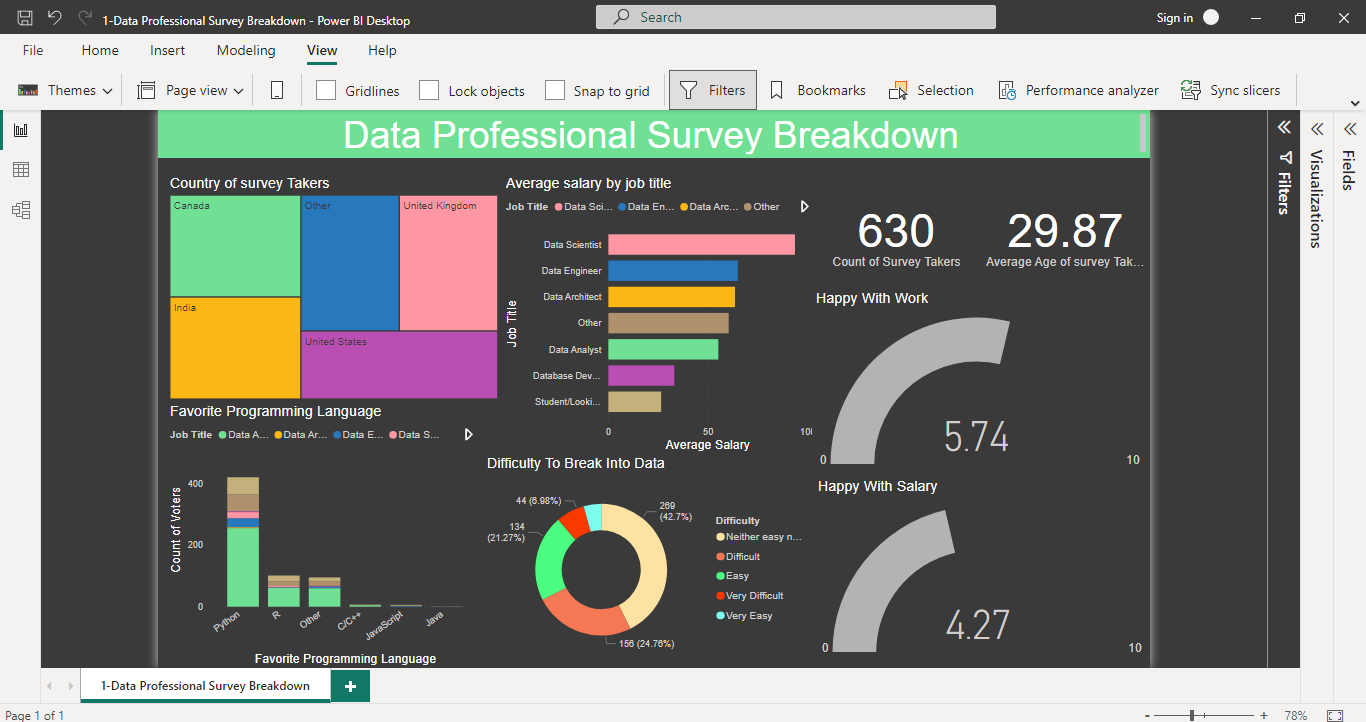

The dashboard page shown, as its layout file describes it:
{"tool":"powerbi","page":{"name":"Page 1","canvas":[1280,720],"ordinal":0},"visuals":[{"type":"textbox","box":[0,0,1280,62.2],"z":0},{"type":"card","fields":{"Values":["Count(Data Professional Survey.Unique ID)"]},"box":[843.3,84,218.4,151.2],"z":1000},{"type":"card","fields":{"Values":["Avg(Data Professional Survey.Q10 - Current Age)"]},"box":[1061.6,84,218.4,151.2],"z":2000},{"type":"barChart","title":"Average salary by job title","fields":{"Category":["Data Professional Survey.Q1 - Which Title Best Fits your Current Role?.1"],"Y":["Avg(Data Professional Survey.Average Salary)"],"Series":["Data Professional Survey.Q1 - Which Title Best Fits your Current Role?.1"]},"box":[443.5,84,409.9,361.2],"z":3000},{"type":"columnChart","title":"Favorite Programming Language","fields":{"Category":["Data Professional Survey.Q5 - Favorite Programming Language.1"],"Y":["CountNonNull(Data Professional Survey.Unique ID)"],"Series":["Data Professional Survey.Q1 - Which Title Best Fits your Current Role?.1"]},"box":[10.1,378,409.9,342.7],"z":3001},{"type":"treemap","title":"Country of survey Takers","fields":{"Group":["Data Professional Survey.Q11 - Which Country do you live in?.1"],"Values":["Count(Data Professional Survey.Q11 - Which Country do you live in?.1)"]},"box":[10.1,84,433.4,294],"z":3002},{"type":"gauge","title":"Happy With Work","fields":{"Y":["Avg(Data Professional Survey.Q6 - How Happy are you in your Current Position with the following? (Work/Life Balance))"],"MinValue":["Min(Data Professional Survey.Q6 - How Happy are you in your Current Position with the following? (Work/Life Balance))1"],"MaxValue":["Max(Data Professional Survey.Q6 - How Happy are you in your Current Position with the following? (Work/Life Balance))2"]},"box":[843.3,231.8,433.4,243.6],"z":3003},{"type":"gauge","title":"Happy With Salary","fields":{"Y":["Avg(Data Professional Survey.Q6 - How Happy are you in your Current Position with the following? (Salary))"],"MinValue":["Min(Data Professional Survey.Q6 - How Happy are you in your Current Position with the following? (Salary))"],"MaxValue":["Max(Data Professional Survey.Q6 - How Happy are you in your Current Position with the following? (Salary))"]},"box":[846.6,475.4,433.4,245.2],"z":3004},{"type":"donutChart","title":"Difficulty To Break Into Data","fields":{"Y":["CountNonNull(Data Professional Survey.Q7 - How difficult was it for you to break into Data?)"],"Category":["Data Professional Survey.Q7 - How difficult was it for you to break into Data?"]},"box":[419.9,445.1,433.4,275.5],"z":3005}]}

Visuals, with their boxes in screenshot pixels (x1, y1, x2, y2):
textbox: [left=28, top=0, right=1294, bottom=12]
card - Count(Data Professional Survey.Unique ID): [left=863, top=33, right=1079, bottom=183]
card - Avg(Data Professional Survey.Q10 - Current Age): [left=1078, top=33, right=1294, bottom=183]
"Average salary by job title" barChart: [left=467, top=33, right=873, bottom=391]
"Favorite Programming Language" columnChart: [left=38, top=324, right=444, bottom=663]
"Country of survey Takers" treemap: [left=38, top=33, right=467, bottom=324]
"Happy With Work" gauge: [left=863, top=179, right=1291, bottom=420]
"Happy With Salary" gauge: [left=866, top=420, right=1294, bottom=663]
"Difficulty To Break Into Data" donutChart: [left=444, top=390, right=872, bottom=663]
